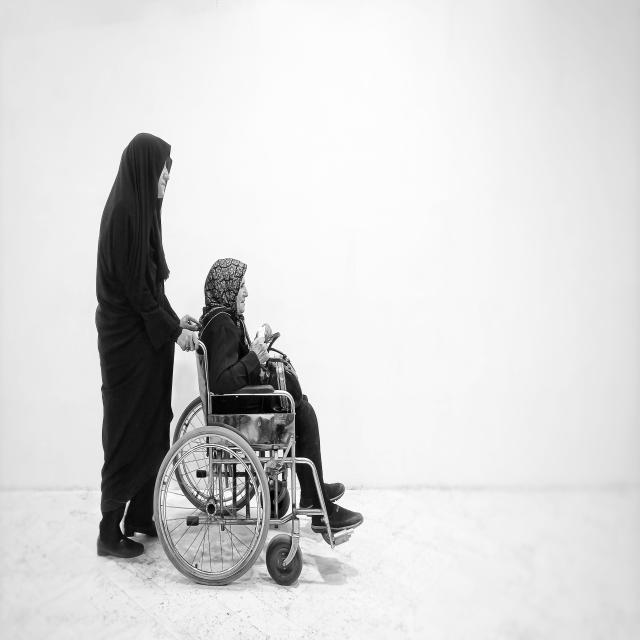wheelchairs: (154, 318, 352, 596)
